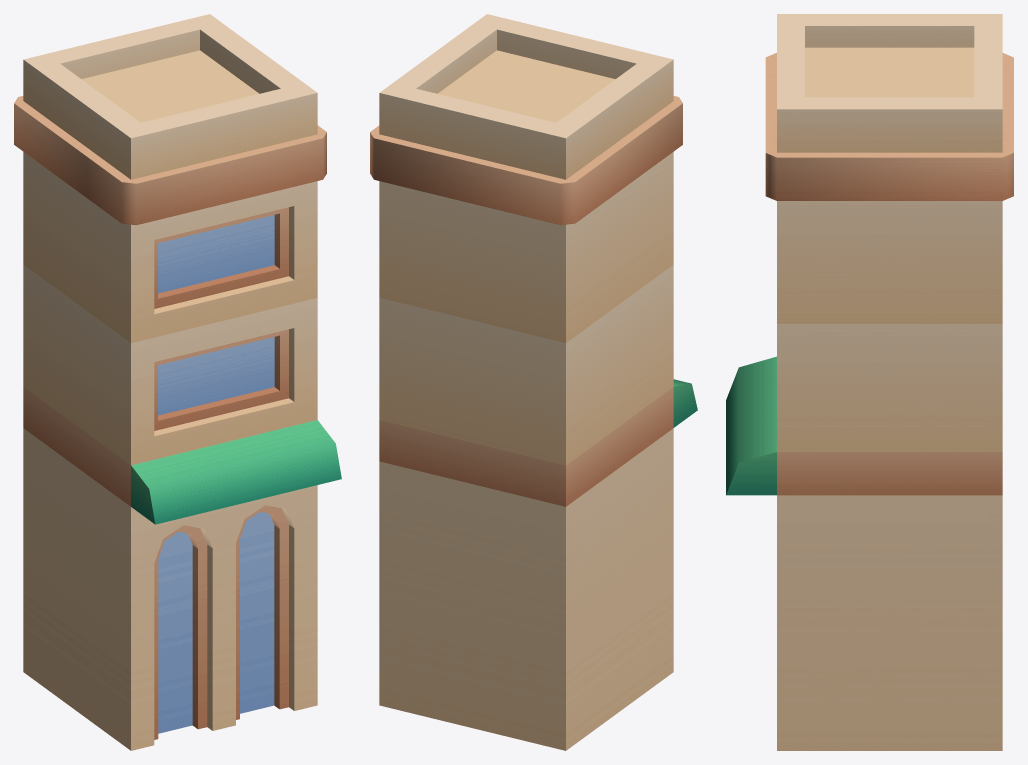
The model's file is building-sample-tower-c.glb.
3 views of the same model, side by side, from view 1: azimuth 30°, elevation 25°; view 2: azimuth 150°, elevation 25°; view 3: azimuth 270°, elevation 25° (orthographic). The views are drawn at different scales.
Visible parts, largest first — view 1: building-sample-tower-c; view 2: building-sample-tower-c; view 3: building-sample-tower-c.
Boxes of the visible parts, x1,y1,x2,y2 form: building-sample-tower-c: (14,14,341,750); building-sample-tower-c: (370,14,697,750); building-sample-tower-c: (726,14,1013,750).
Bounding box in the file's own units: 1.1 × 3.14 × 1.28.
1 material, 1 textured.
